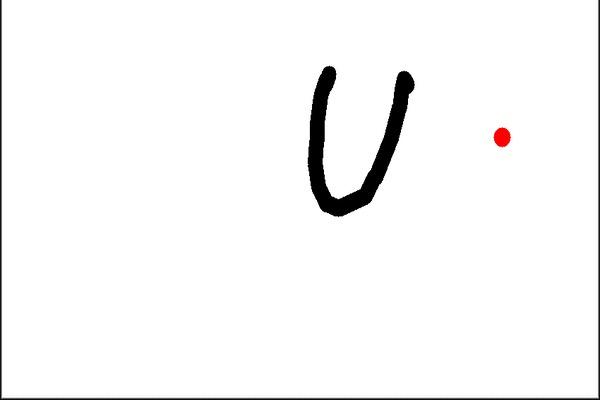U: (292, 51, 427, 218)
